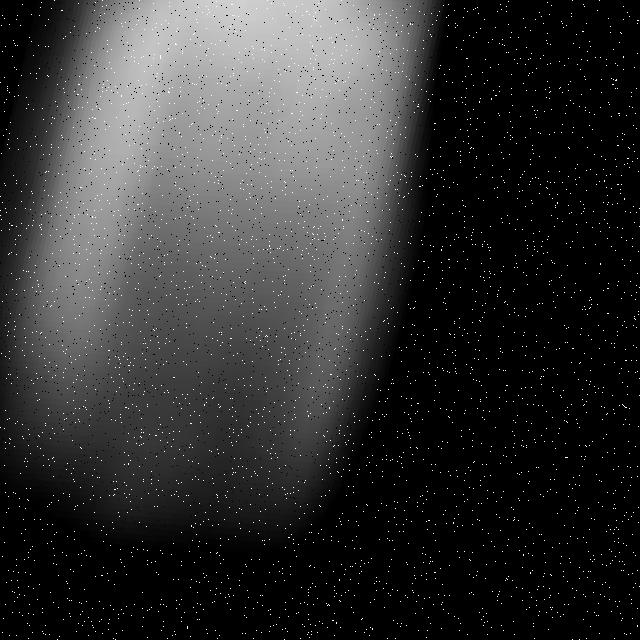person: (1, 1, 484, 602)
